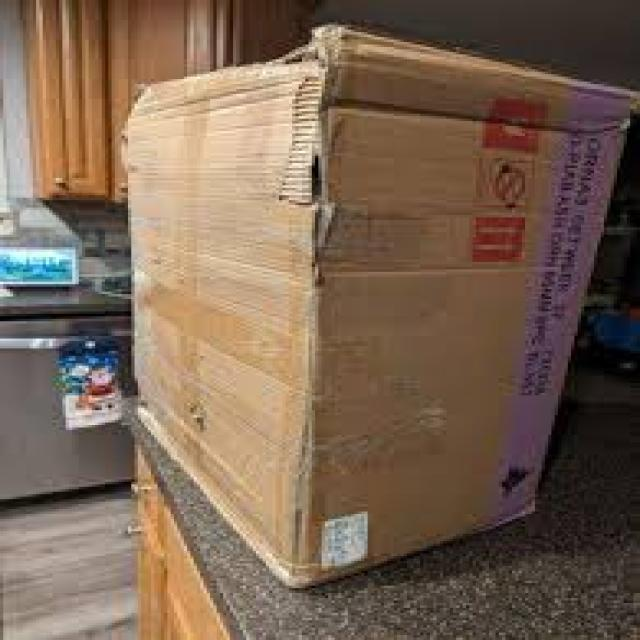package_damage: (238, 27, 392, 242), (497, 452, 545, 510)
